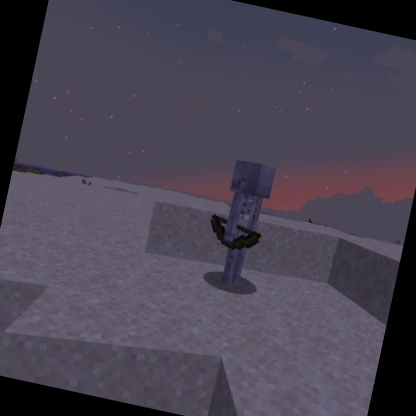skeleton: (194, 153, 281, 295)
